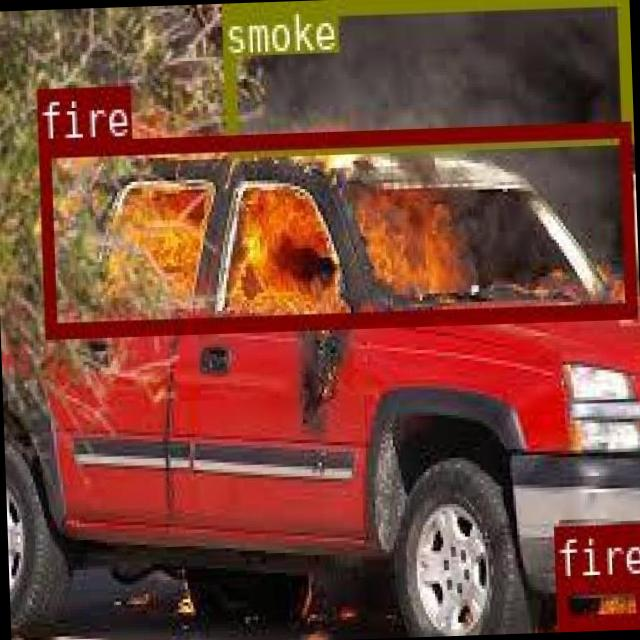fire: (38, 119, 635, 336), (554, 576, 640, 626)
smoke: (221, 0, 629, 151)
